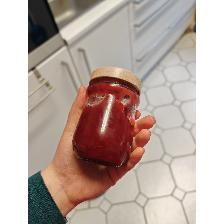Marmelade: (71, 66, 143, 168)
